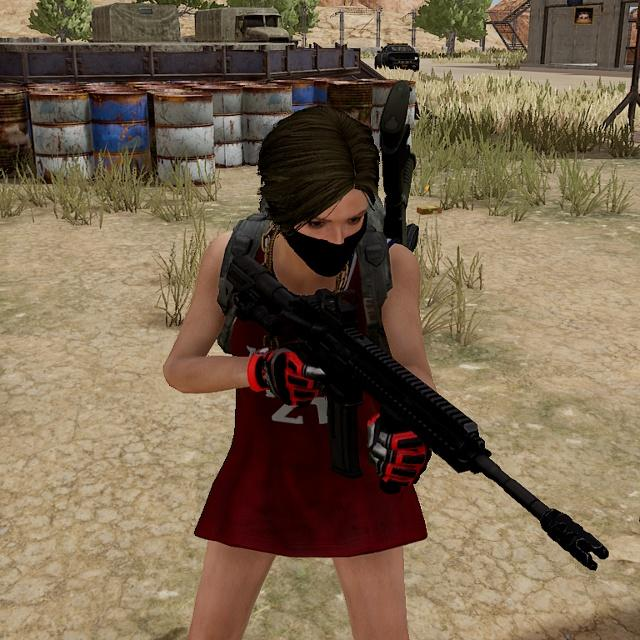head: (255, 103, 392, 284)
people: (155, 96, 447, 640)
